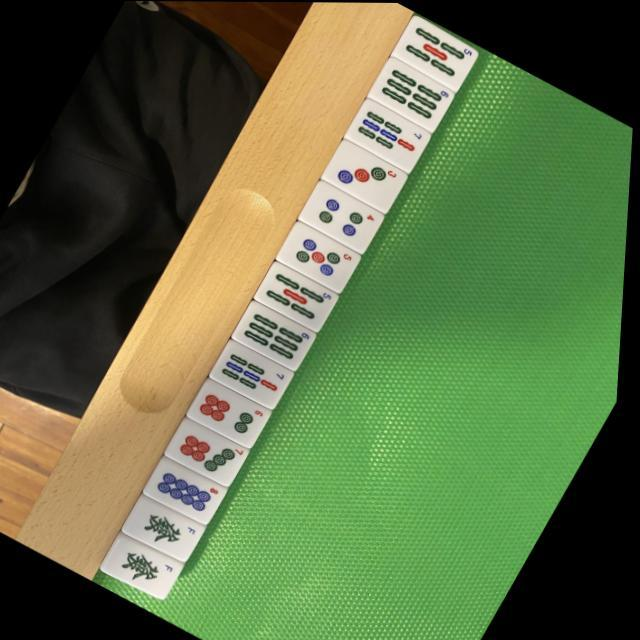hdg: (106, 532, 189, 600), (132, 498, 208, 558)
sb5: (392, 18, 478, 85), (257, 262, 341, 330)
sb6: (370, 60, 454, 126), (238, 303, 318, 367)
sb7: (347, 100, 429, 167), (215, 340, 296, 406)
sd3: (324, 141, 408, 209)
sd4: (303, 184, 384, 249)
sd5: (278, 224, 362, 292)
sd6: (193, 380, 273, 444)
sd7: (172, 420, 255, 484)
sd8: (154, 460, 230, 518)
